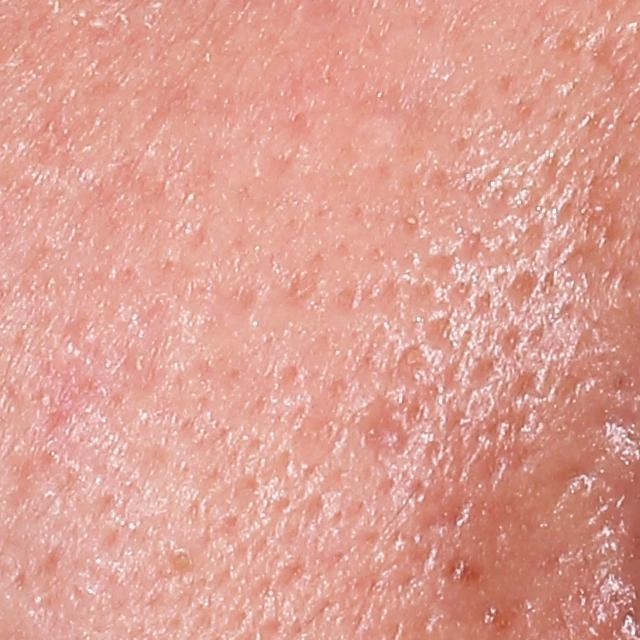atrophic_scar: (355, 416, 406, 460), (271, 556, 316, 603)
comedo: (167, 546, 197, 575)
